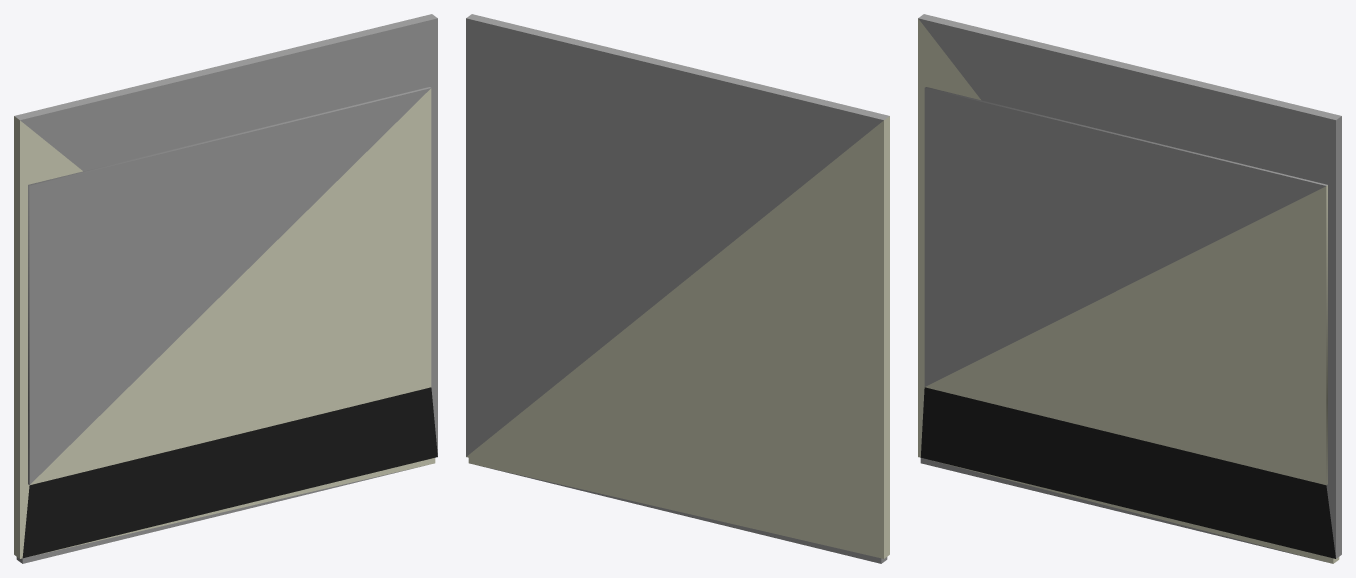
Rendered from original-128-back.obj.
3 views of the same model, side by side, from view 1: azimuth 30°, elevation 25°; view 2: azimuth 150°, elevation 25°; view 3: azimuth 330°, elevation 25° (orthographic).
Visible parts, largest first — view 1: mesh8/mesh8-geometry#mesh8-geometry.004; view 2: mesh8/mesh8-geometry#mesh8-geometry.004; view 3: mesh8/mesh8-geometry#mesh8-geometry.004.
Part boxes in pixels (left/top/right/bottom): mesh8/mesh8-geometry#mesh8-geometry.004: left=14, top=14, right=437, bottom=563; mesh8/mesh8-geometry#mesh8-geometry.004: left=466, top=14, right=889, bottom=563; mesh8/mesh8-geometry#mesh8-geometry.004: left=918, top=14, right=1341, bottom=563.
Size of the model in its own units: 1.39 by 1.41 by 0.0428.
